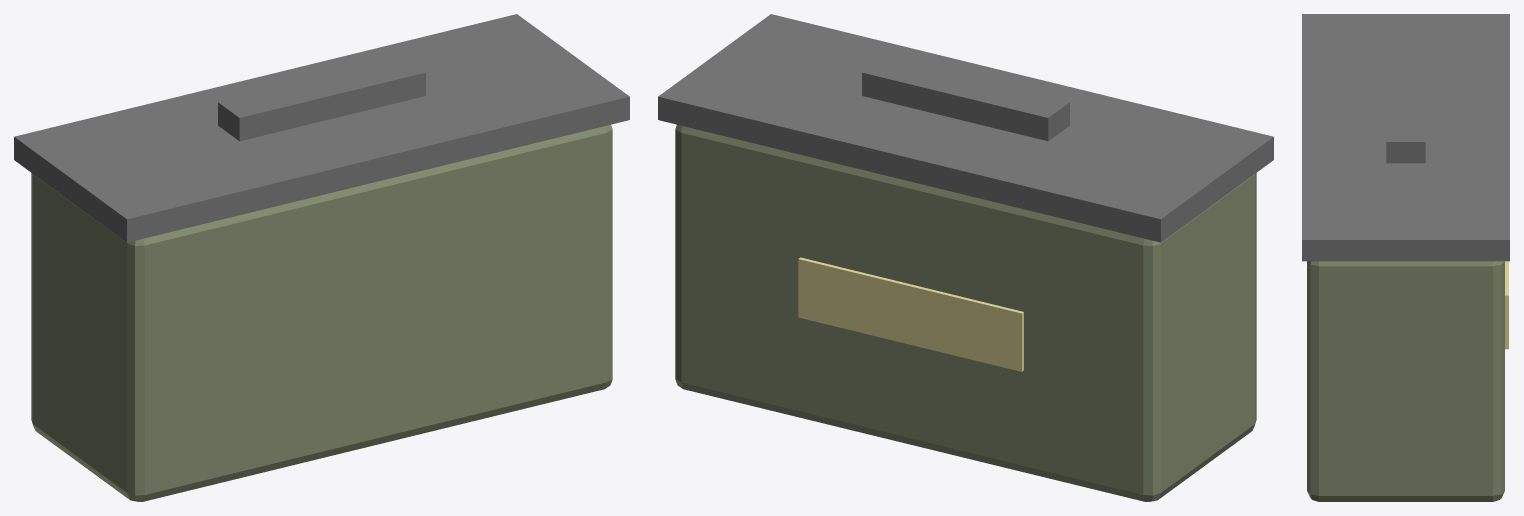
Rendered from Loot_AmmoBox_Rifle.fbx.
3 views of the same model, side by side, from view 1: azimuth 30°, elevation 25°; view 2: azimuth 150°, elevation 25°; view 3: azimuth 270°, elevation 25° (orthographic). The views are drawn at different scales.
Visible parts, largest first — view 1: Loot_AmmoBox_Rifle; view 2: Loot_AmmoBox_Rifle; view 3: Loot_AmmoBox_Rifle.
Boxes of the visible parts, x1,y1,x2,y2 form: Loot_AmmoBox_Rifle: (14,14,629,501); Loot_AmmoBox_Rifle: (658,14,1273,501); Loot_AmmoBox_Rifle: (1302,14,1509,501).
Size of the model in its own units: 0.27 by 0.166 by 0.105.
